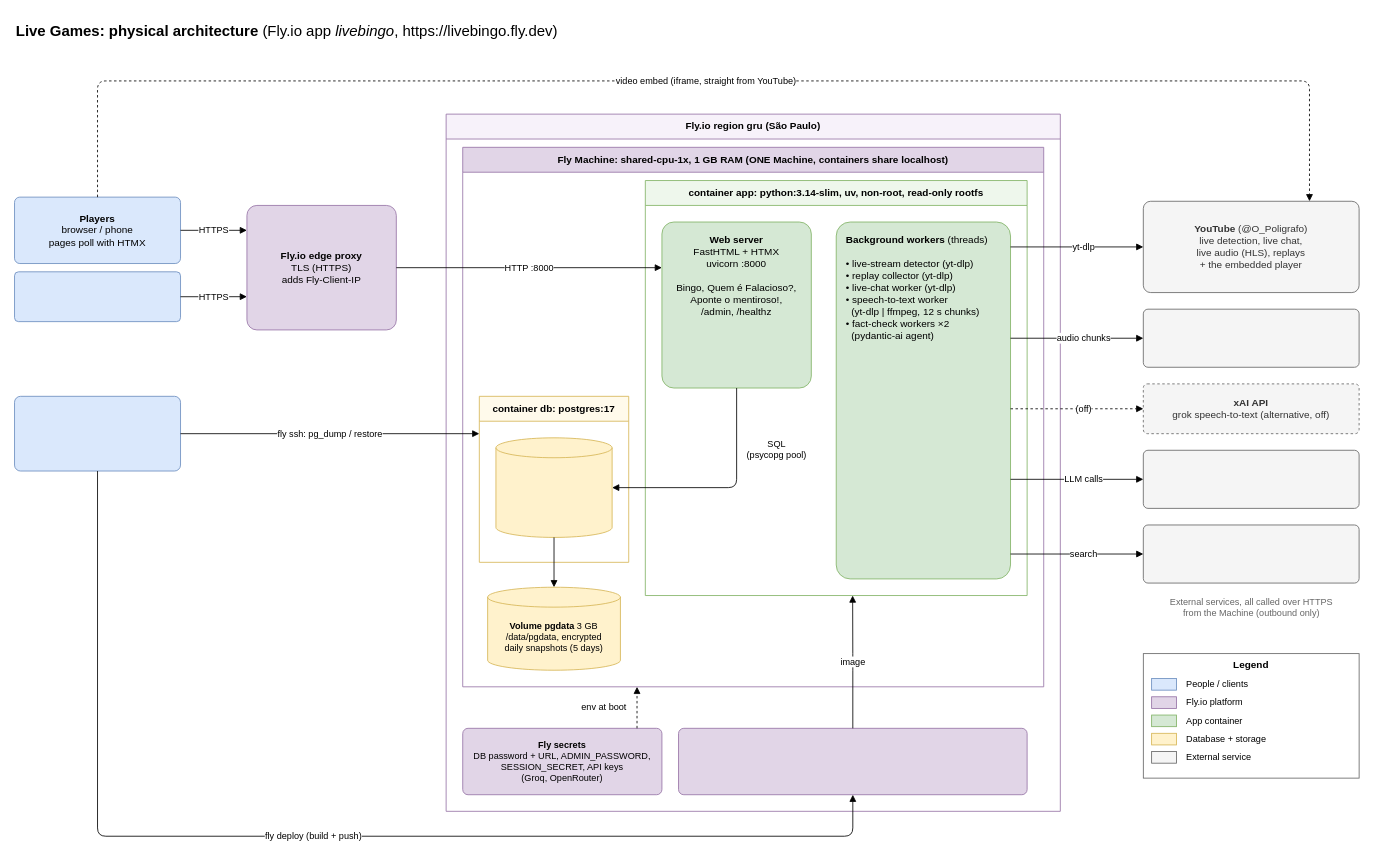
The diagram is 1374 pixels wide and 857 high, and some of its shapes have lost their labels. The centre of each missing label's shape, as x and y in pixels:
DuckDuckGo (ddgs) web search for the fact-checker: the point at 1250,553
Groq API whisper-large-v3-turbo (speech-to-text): the point at 1250,337
Host / admin browser, /admin (HTTP Basic): the point at 97,296
OpenRouter API openai/gpt-oss-120b (fact-checker LLM): the point at 1250,478
Operator laptop fly CLI, scripts/fly-*.sh data/backup/*.sql: the point at 97,433
PostgreSQL 17 127.0.0.1:5432 database livegames: the point at 553,487
registry.fly.io/livebingo image built from ./Dockerfile by fly deploy: the point at 852,761
